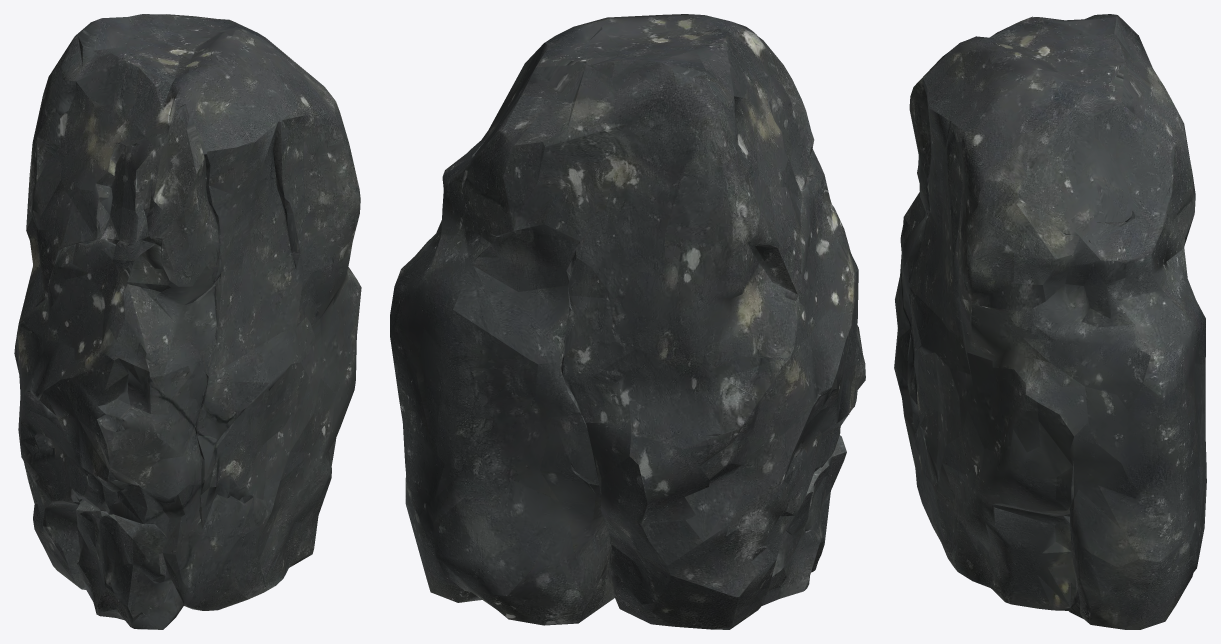
Rendered from crag_spire.glb.
3 renders of one model, left to right at view 1: azimuth 30°, elevation 25°; view 2: azimuth 150°, elevation 25°; view 3: azimuth 270°, elevation 25°, orthographic. The views are drawn at different scales.
Size of the model in its own units: 1.3 by 1.9 by 1.05.
Materials: 1 (1 with a texture image).
